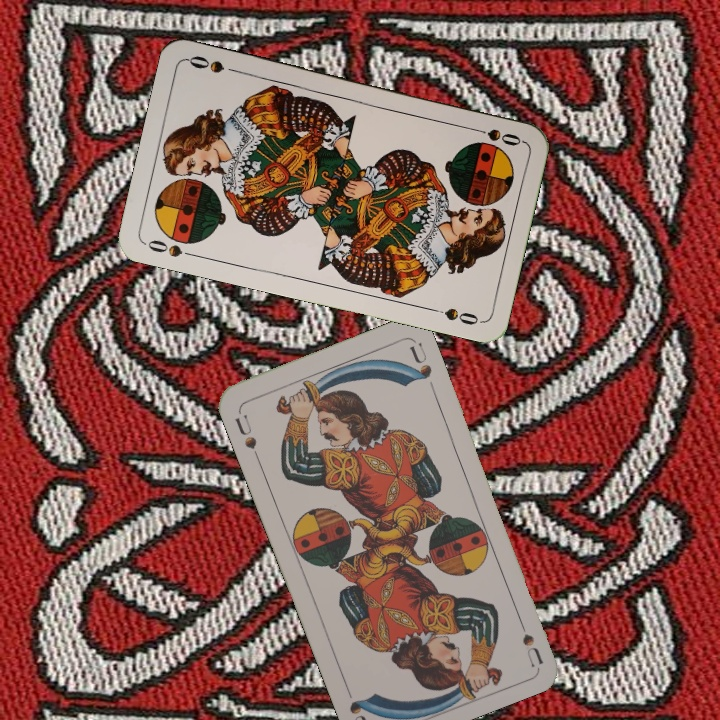SO: (466, 123, 524, 149), (141, 235, 200, 260)
SU: (512, 610, 545, 668), (231, 410, 263, 464)
